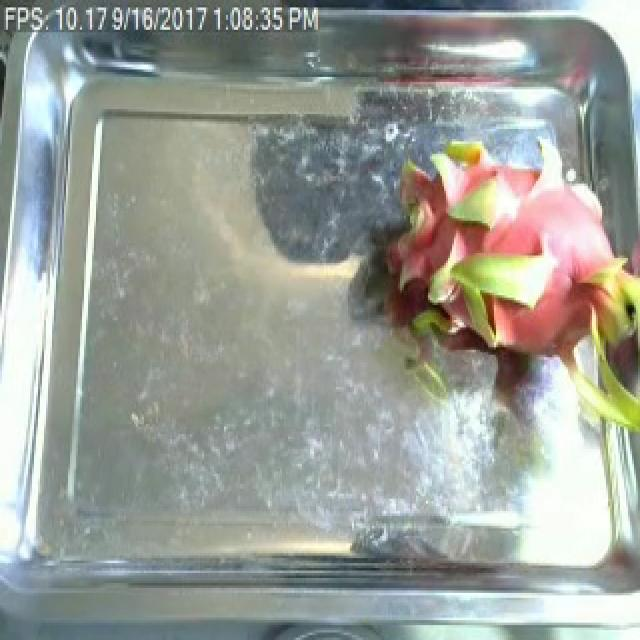fruit: (356, 104, 640, 447)
